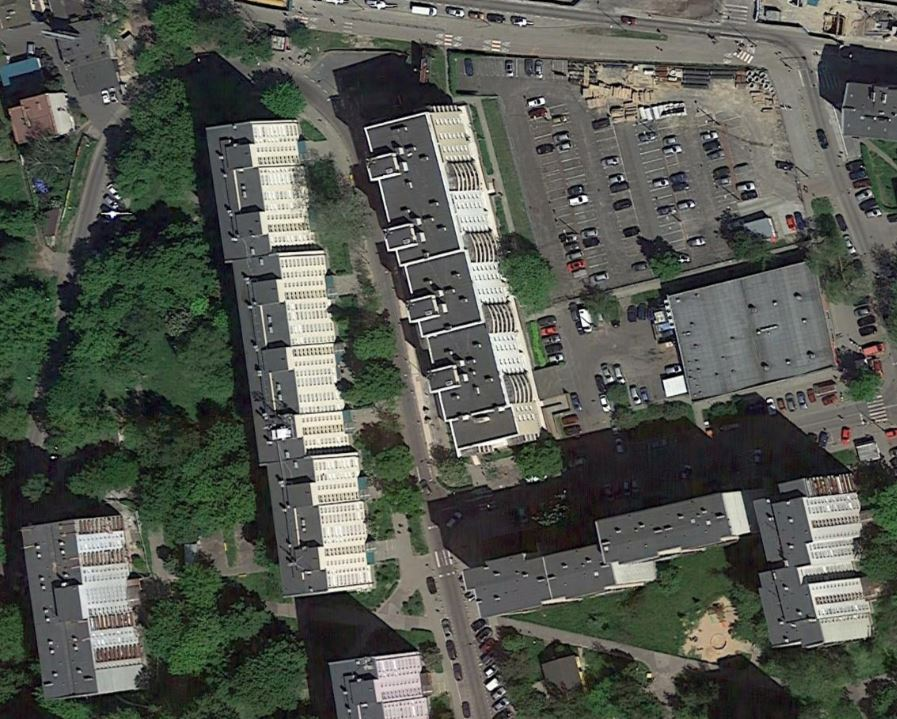block of flats: (204, 111, 383, 608), (361, 99, 555, 461), (458, 482, 755, 630), (17, 506, 153, 713), (750, 467, 877, 655), (320, 645, 433, 719)
family house: (4, 86, 81, 156)
shopping_center: (652, 245, 846, 410)
